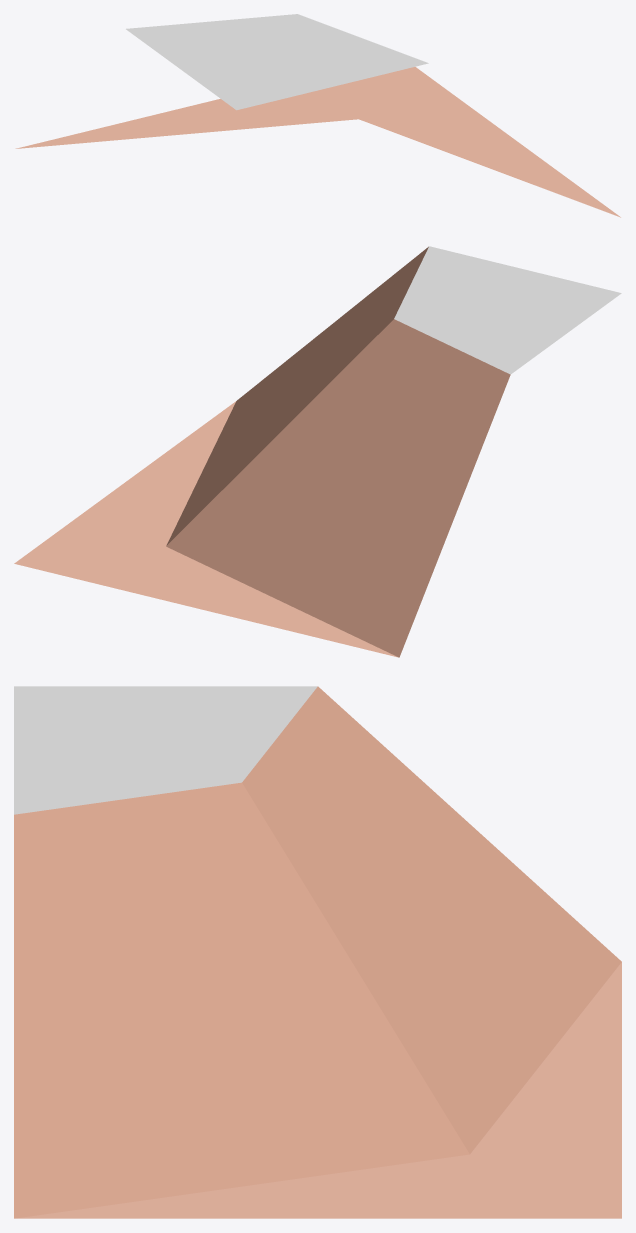
File: terrain_sideCorner_shapes.glb
The picture shows the model from 3 angles, top to bottom: view 1: azimuth 30°, elevation 25°; view 2: azimuth 150°, elevation 25°; view 3: azimuth 270°, elevation 25°; orthographic projection. The views are drawn at different scales.
Parts seen in each view (by area): view 1: terrain_sideCorner; view 2: terrain_sideCorner; view 3: terrain_sideCorner.
Part boxes in pixels (left/top/right/bottom): terrain_sideCorner: left=15, top=14, right=620, bottom=217; terrain_sideCorner: left=14, top=246, right=621, bottom=657; terrain_sideCorner: left=14, top=686, right=621, bottom=1218.
Bounding box in the file's own units: 1 × 0.5 × 1.
